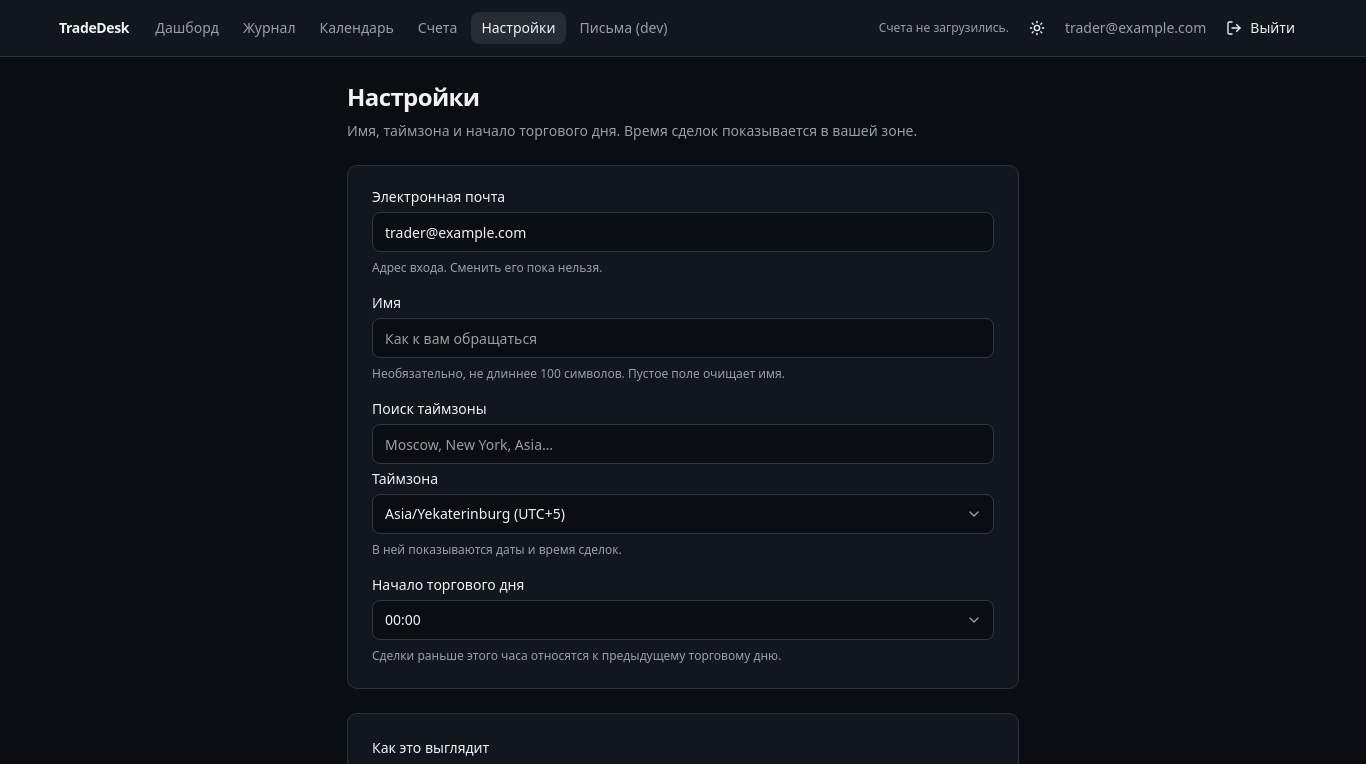
/settings › пустой результат поиска объясняется, а не выглядит поломкой
Expected: the dropdown labelled "Таймзона" is enabled, [372, 494, 994, 534]
Type "такой зоны нет" into the search field labelled "Поиск таймзоны".
click(683, 444); type("такой зоны нет")  # box [372, 424, 994, 464]
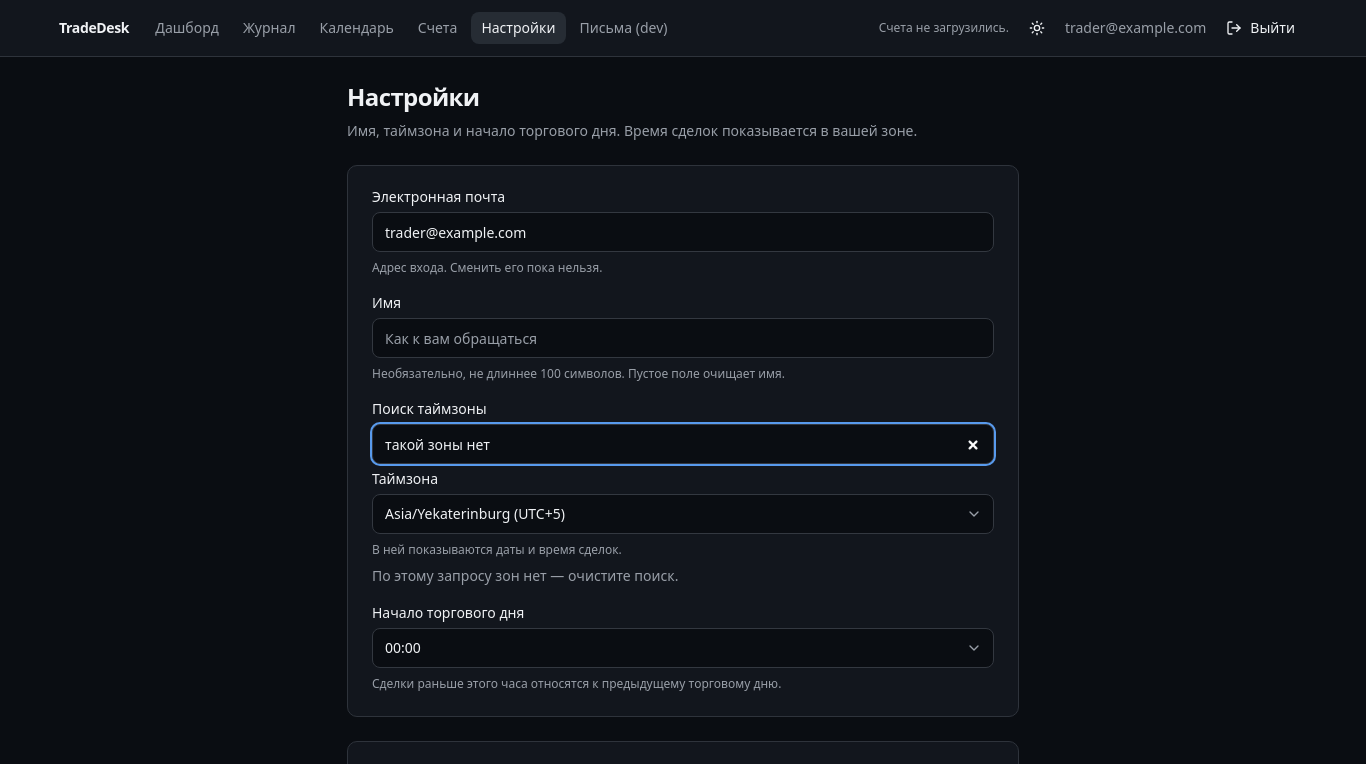
Expected: the text "По этому запросу зон нет — очистите поиск." is shown, [372, 566, 678, 585]
